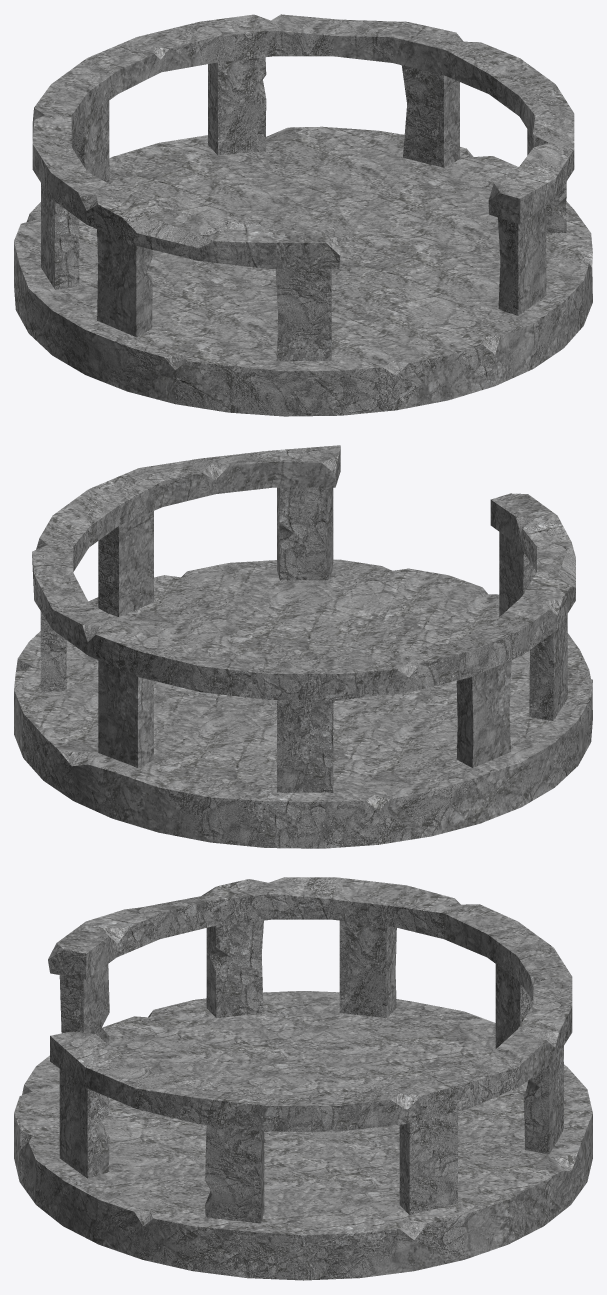
The model's file is materials_3_base_5.fbx.
3 renders of one model, top to bottom at view 1: azimuth 30°, elevation 25°; view 2: azimuth 150°, elevation 25°; view 3: azimuth 270°, elevation 25°, orthographic.
Visible parts, largest first — view 1: materials_3_base_5; view 2: materials_3_base_5; view 3: materials_3_base_5.
Boxes of the visible parts, x1,y1,x2,y2 form: materials_3_base_5: (14,14,592,416); materials_3_base_5: (14,445,592,848); materials_3_base_5: (14,877,592,1280).
Bounding box in the file's own units: 348 × 110 × 348.
